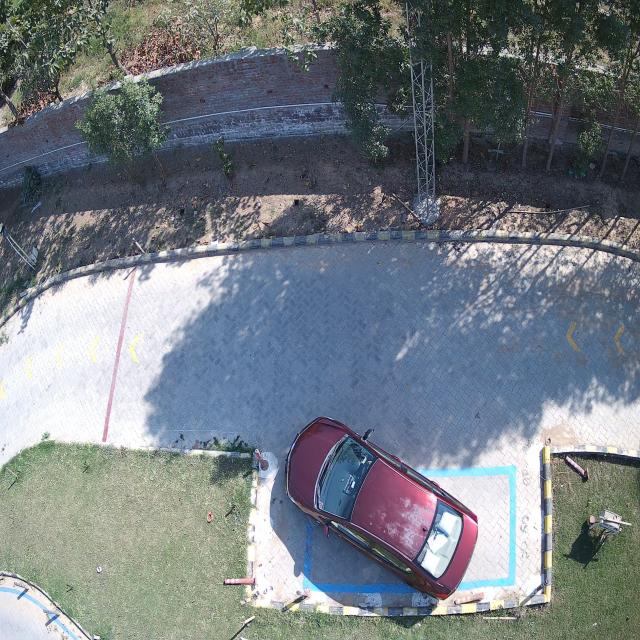car: (284, 417, 478, 598)
